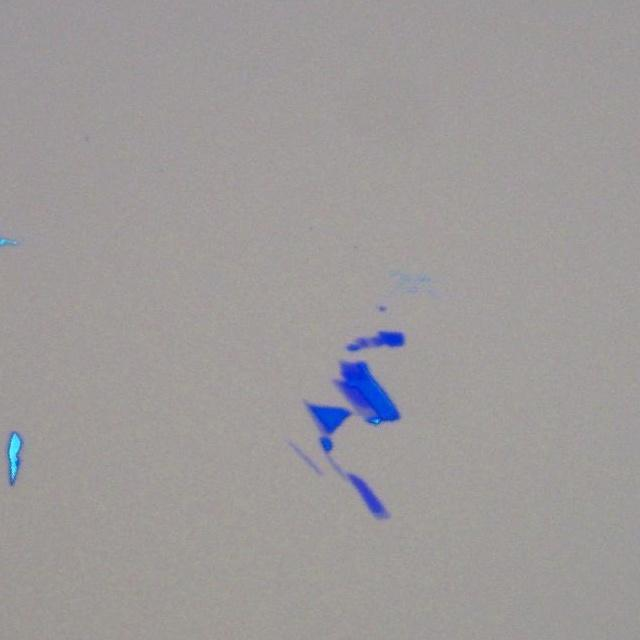monolayer-eWW4: (307, 406, 329, 437), (351, 402, 376, 418), (371, 512, 393, 522)
